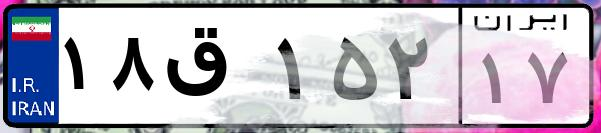1: (270, 28, 330, 110), (57, 26, 110, 100), (475, 38, 525, 113)
2: (385, 28, 445, 110)
5: (330, 28, 385, 110)
7: (525, 38, 570, 115)
8: (110, 28, 158, 98)
ق: (158, 20, 270, 120)
